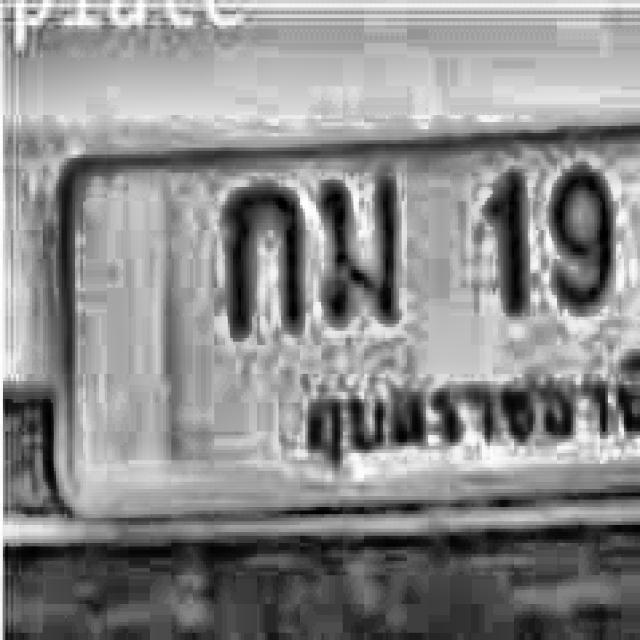license-plate: (49, 112, 640, 520)
